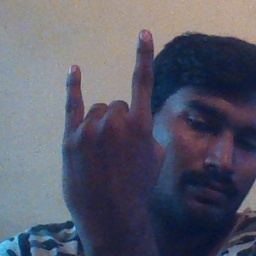V: (58, 26, 170, 216)
